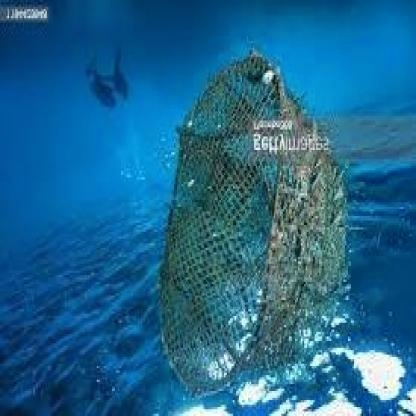net: (159, 54, 351, 395)
